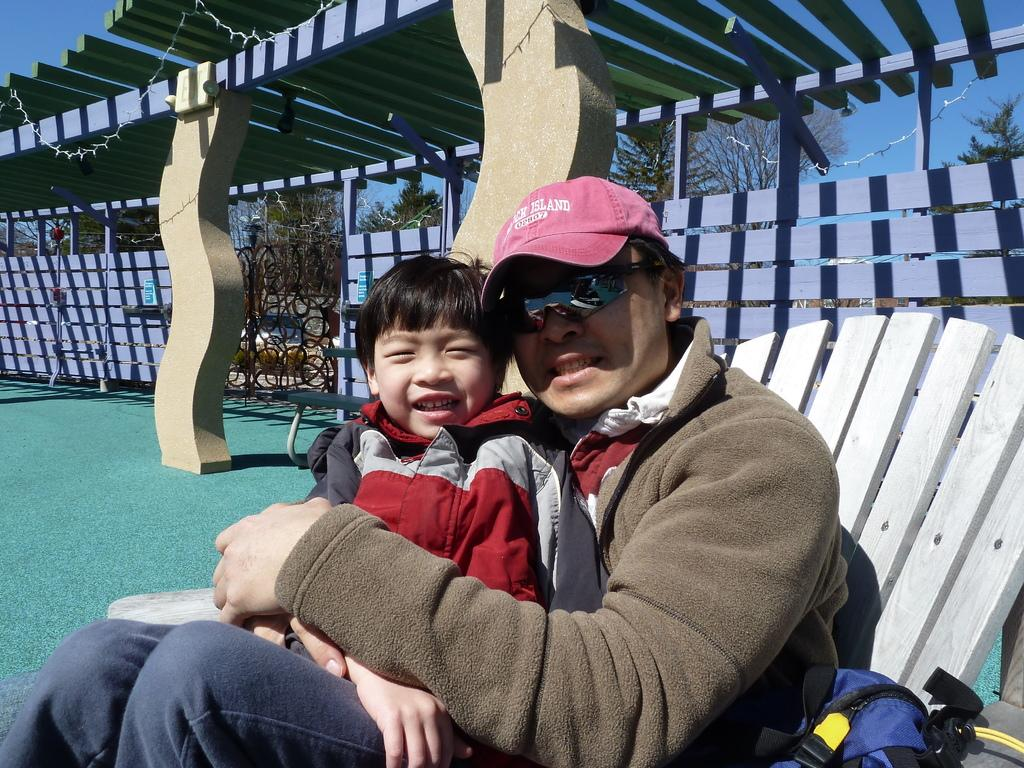Sem Máscara: (505, 241, 665, 417), (367, 309, 491, 440)
